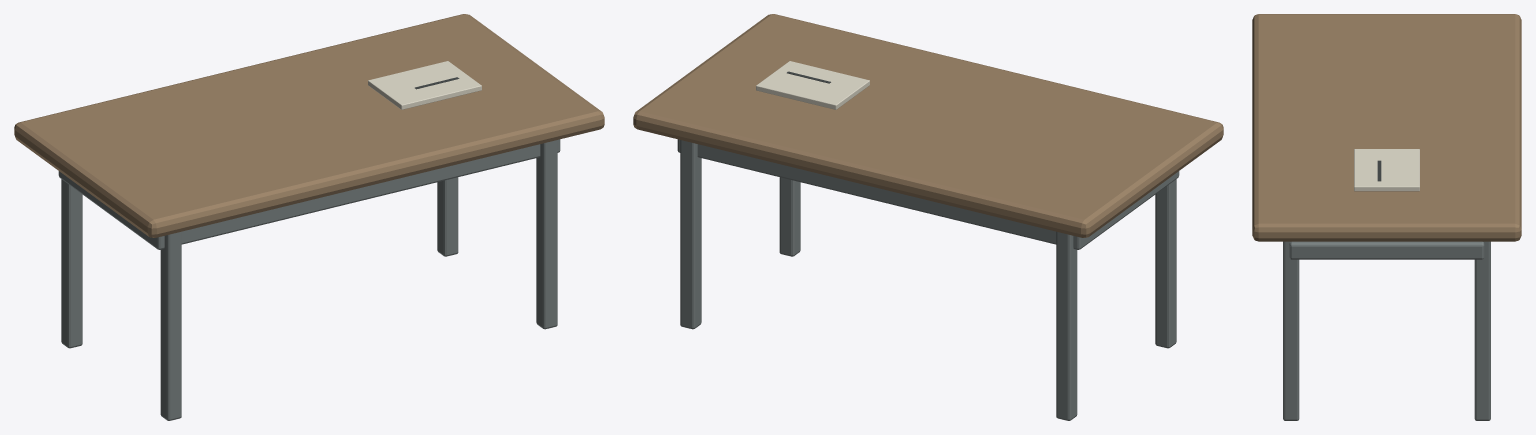
File: InterviewTable.fbx
The picture shows the model from 3 angles, left to right: view 1: azimuth 30°, elevation 25°; view 2: azimuth 150°, elevation 25°; view 3: azimuth 270°, elevation 25°; orthographic projection. The views are drawn at different scales.
Parts seen in each view (by area): view 1: InterviewTable_Timber, InterviewTable_Steel, InterviewTable_Paper; view 2: InterviewTable_Timber, InterviewTable_Steel, InterviewTable_Paper; view 3: InterviewTable_Timber, InterviewTable_Steel, InterviewTable_Paper.
Part boxes in pixels (x1,y1,x2,y2): InterviewTable_Timber: (14,14,604,237); InterviewTable_Steel: (58,139,560,420); InterviewTable_Paper: (368,61,481,109); InterviewTable_Timber: (633,14,1223,237); InterviewTable_Steel: (677,139,1179,420); InterviewTable_Paper: (756,61,869,109); InterviewTable_Timber: (1252,14,1521,241); InterviewTable_Steel: (1283,241,1490,420); InterviewTable_Paper: (1354,149,1419,191).
Bounding box in the file's own units: 170 × 80.1 × 90.
